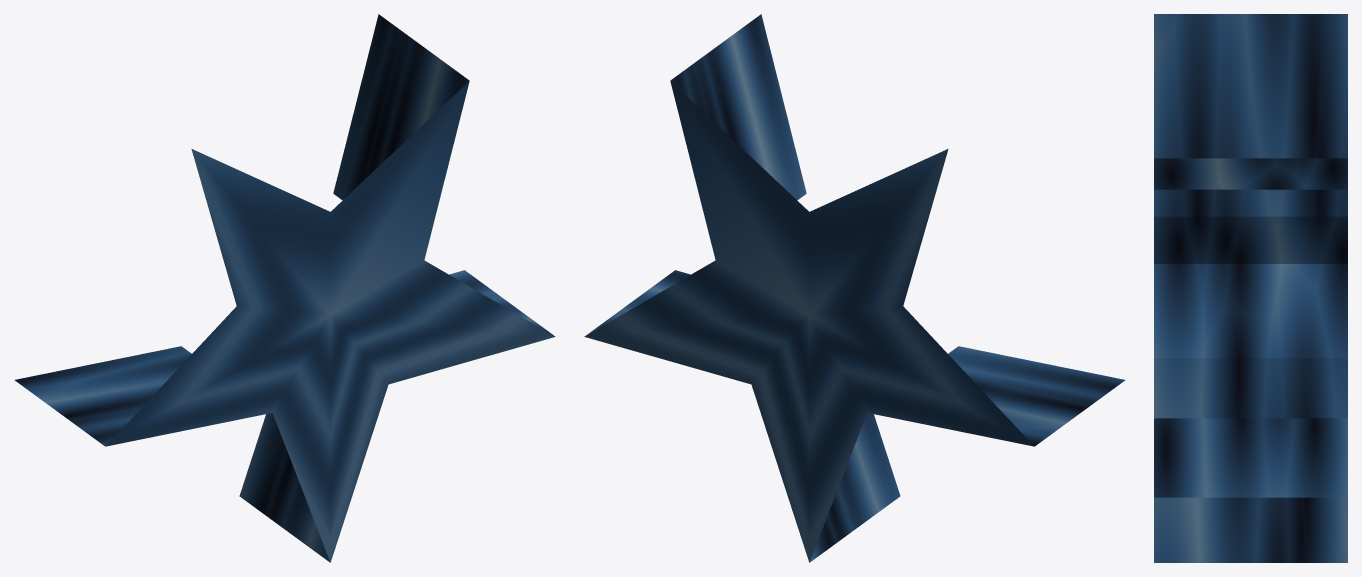
The model's file is star-cool-steel.glb.
3 views of the same model, side by side, from view 1: azimuth 30°, elevation 25°; view 2: azimuth 150°, elevation 25°; view 3: azimuth 270°, elevation 25° (orthographic). The views are drawn at different scales.
Visible parts, largest first — view 1: world; view 2: world; view 3: world.
Part boxes in pixels (box(x1,y1,x2,y2)): world: box(14, 14, 555, 562); world: box(584, 14, 1125, 562); world: box(1154, 14, 1347, 562).
Bounding box in the file's own units: 1.14 × 1.09 × 0.4.
1 material, 1 textured.
